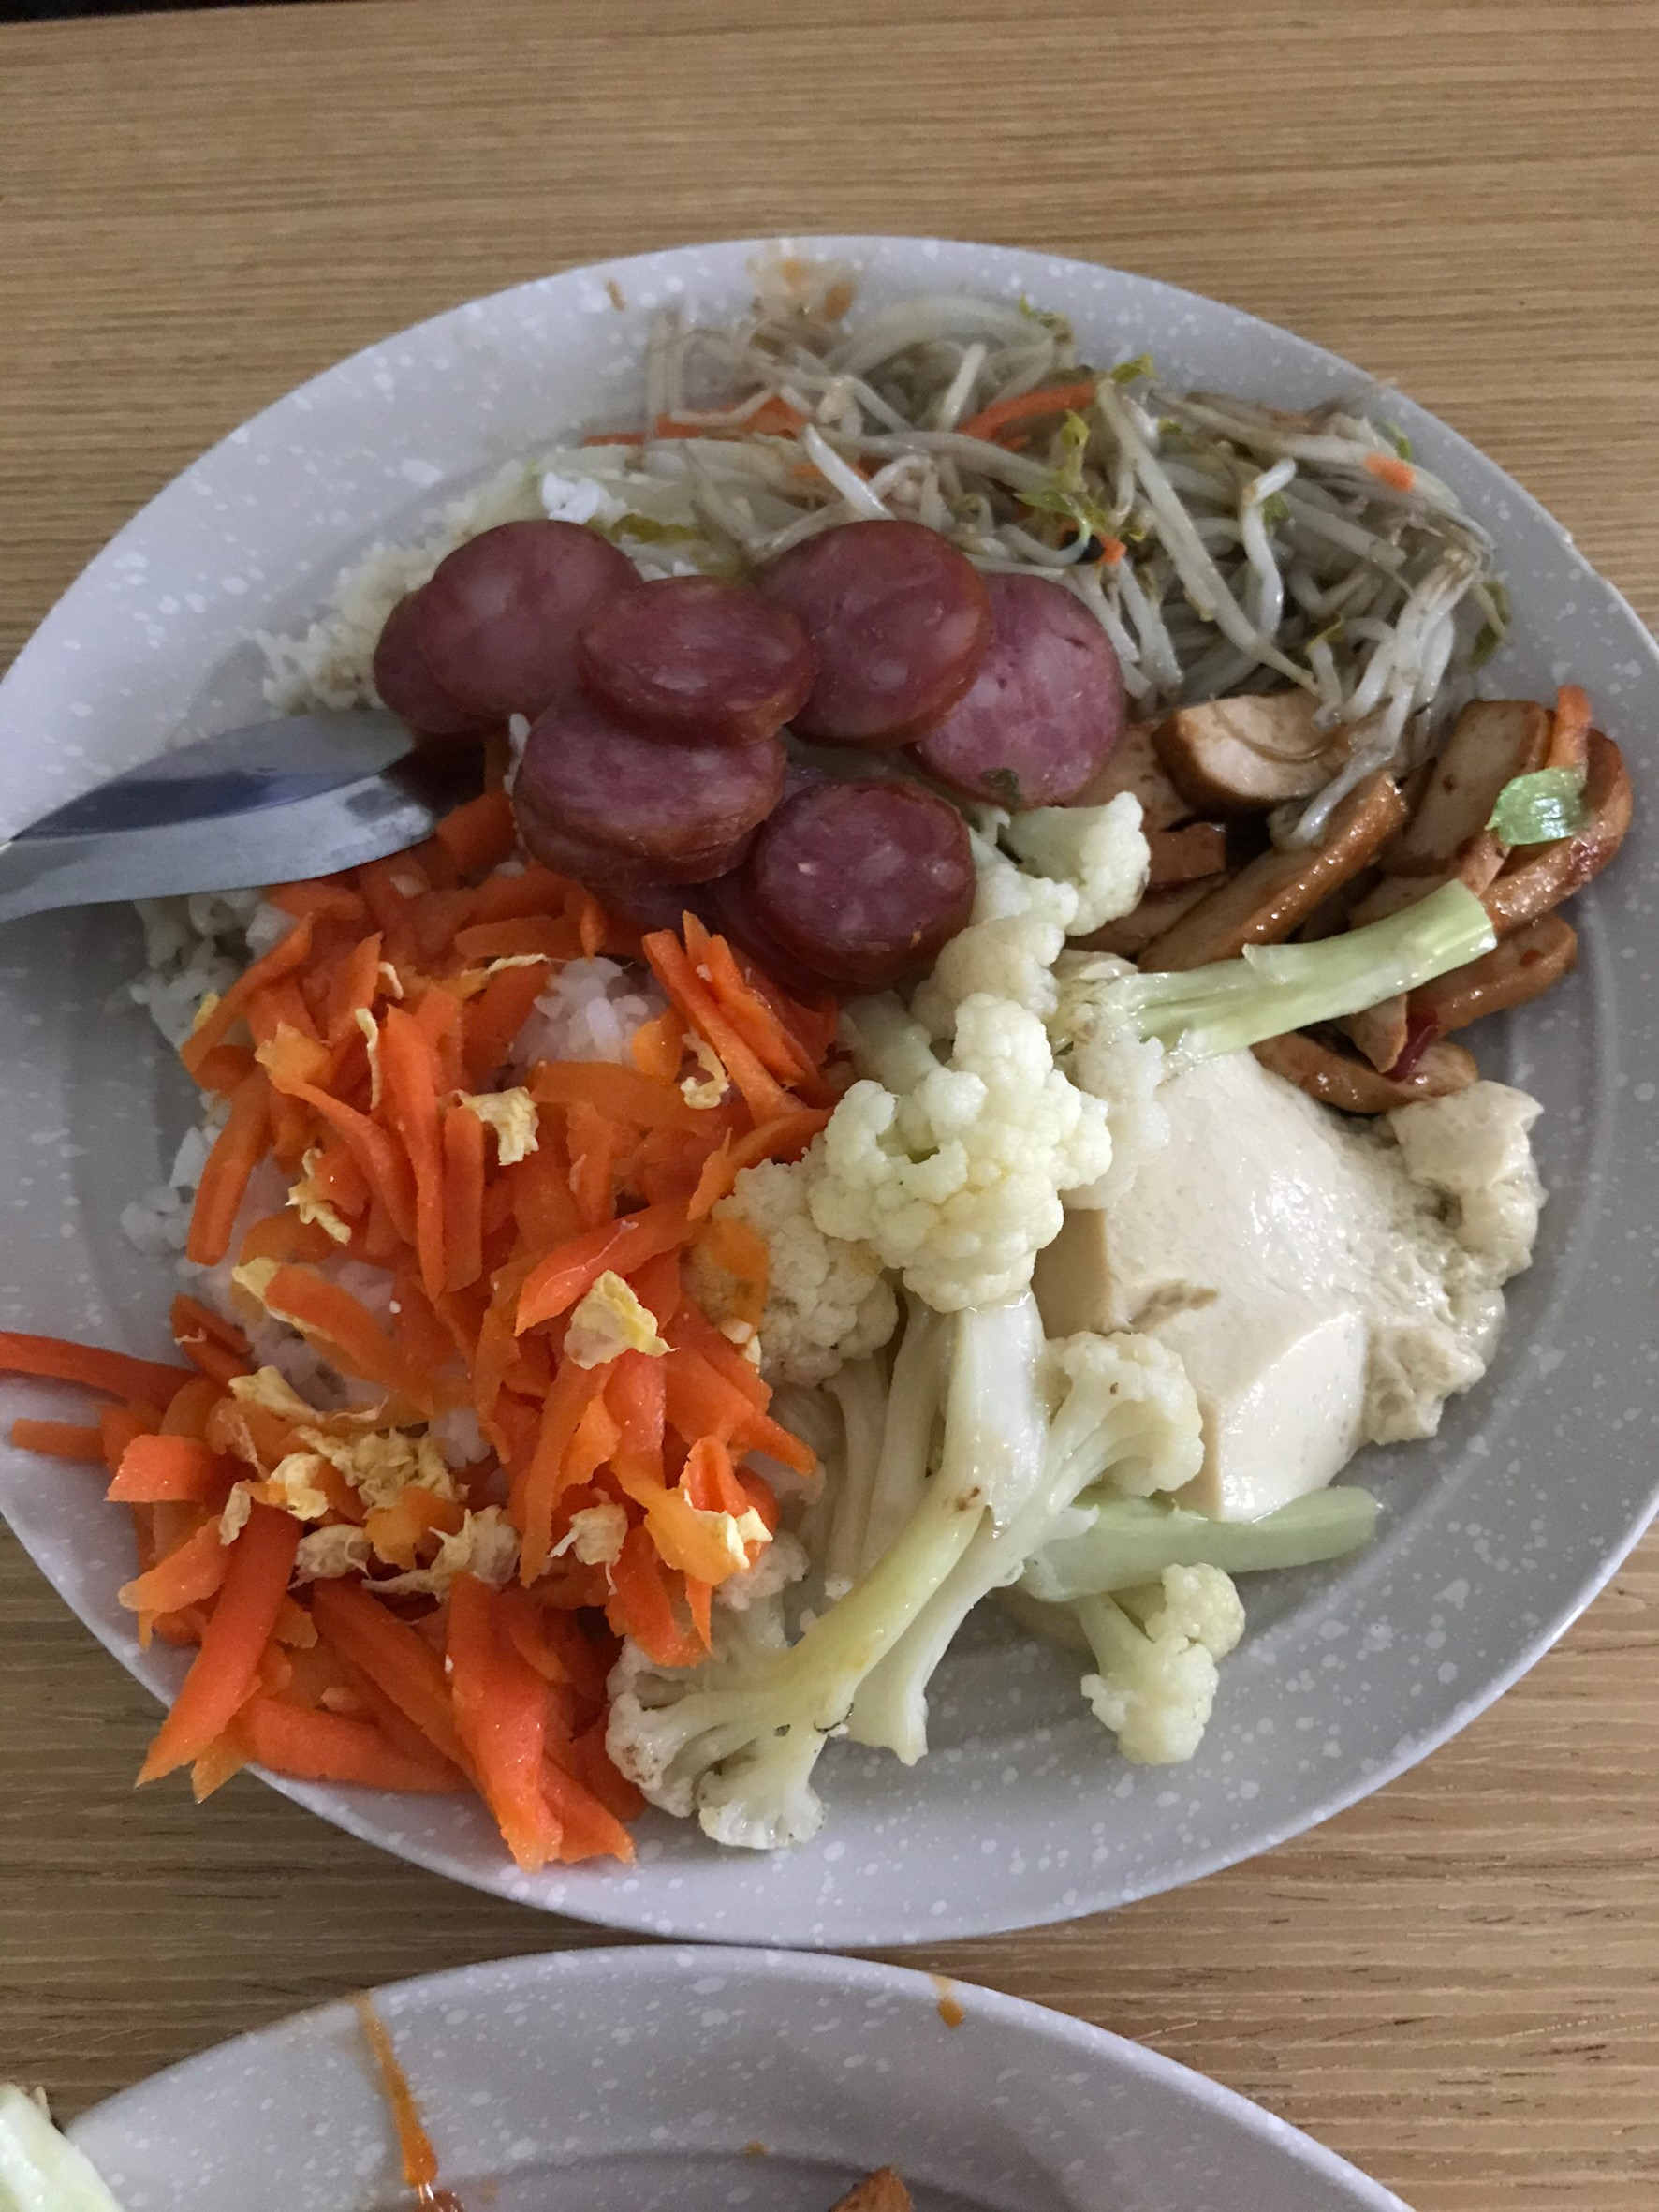carrot_eggs: (101, 859, 800, 1778)
chinese_sausage: (373, 521, 1121, 966)
mung_bean_sprouts: (676, 268, 1480, 746)
